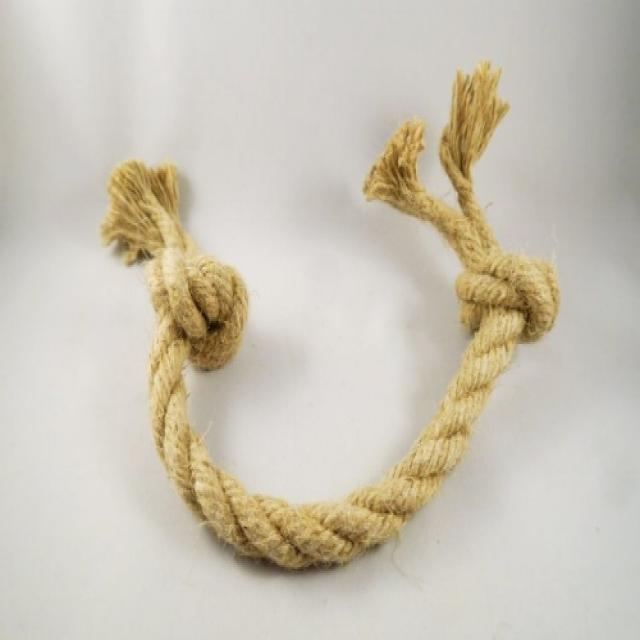rope: (99, 63, 561, 575)
